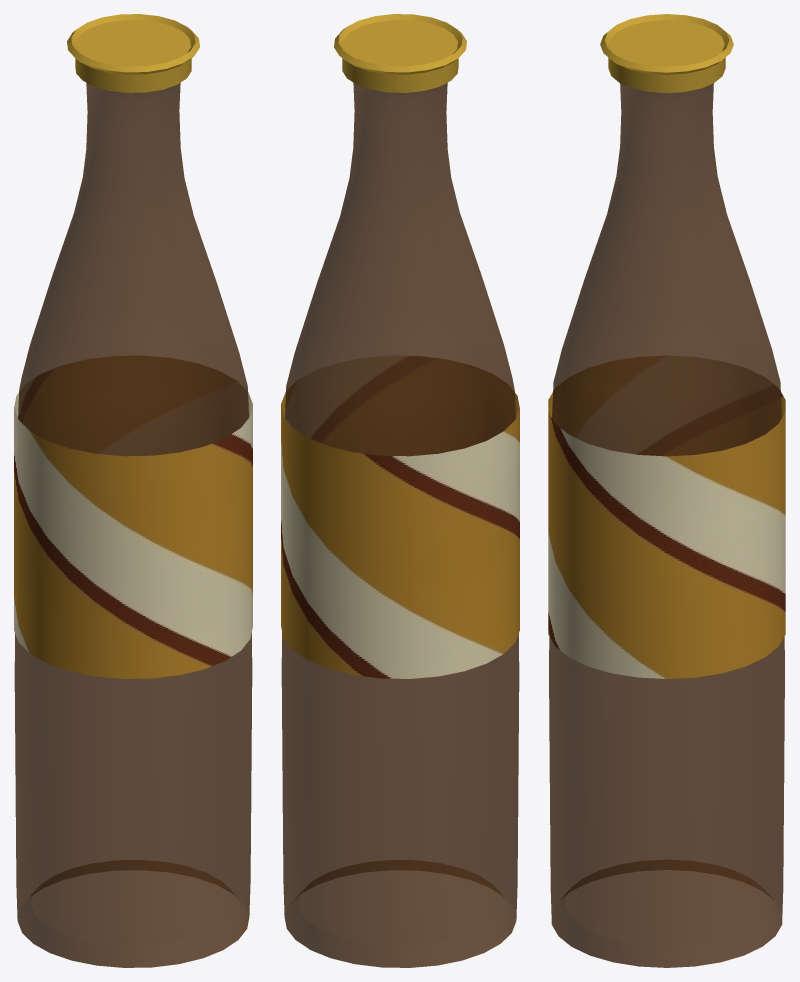
File: bottle_beer_brown_longneck.glb
The picture shows the model from 3 angles, left to right: view 1: azimuth 30°, elevation 25°; view 2: azimuth 150°, elevation 25°; view 3: azimuth 270°, elevation 25°; orthographic projection.
Visible parts, largest first — view 1: bottle_beer_brown_longneck; view 2: bottle_beer_brown_longneck; view 3: bottle_beer_brown_longneck.
Part boxes in pixels (x1,y1,x2,y2): bottle_beer_brown_longneck: (14, 14, 252, 967); bottle_beer_brown_longneck: (281, 14, 519, 967); bottle_beer_brown_longneck: (548, 14, 785, 967).
Size of the model in its own units: 0.0632 by 0.2564 by 0.0627.
3 materials, 1 textured.
